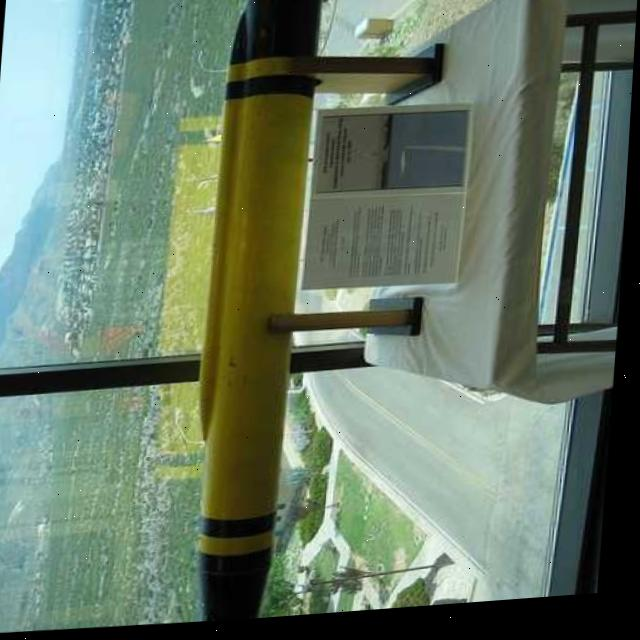missile: (167, 0, 336, 629)
